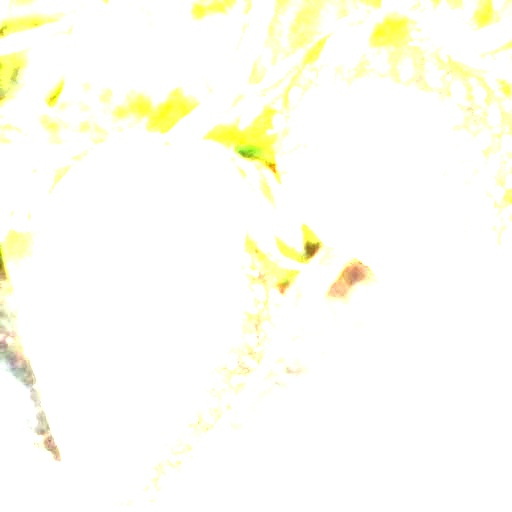Gray Mold: (15, 159, 235, 505), (289, 189, 504, 315)
